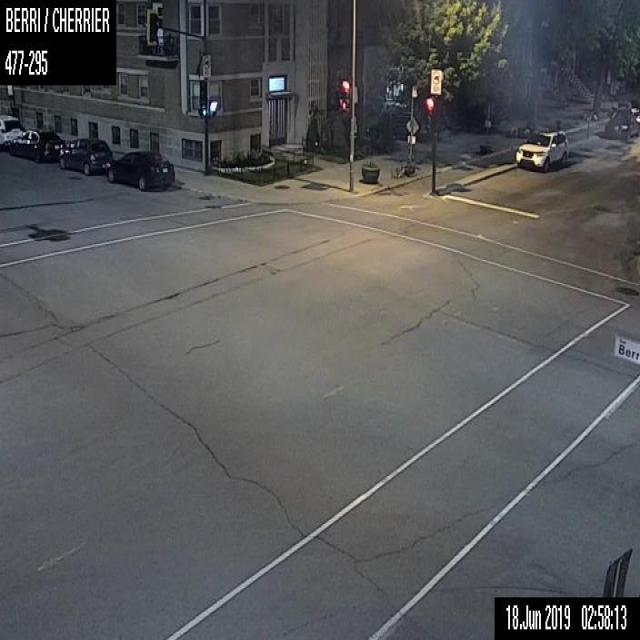vehicle: (106, 149, 174, 190), (515, 128, 568, 171), (10, 128, 64, 166), (58, 138, 112, 173), (604, 108, 639, 138), (0, 114, 22, 150)
